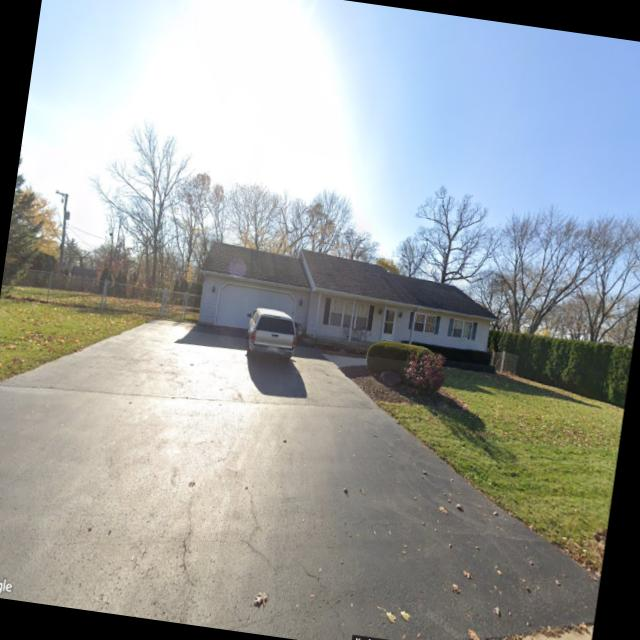House: (190, 234, 508, 374)
